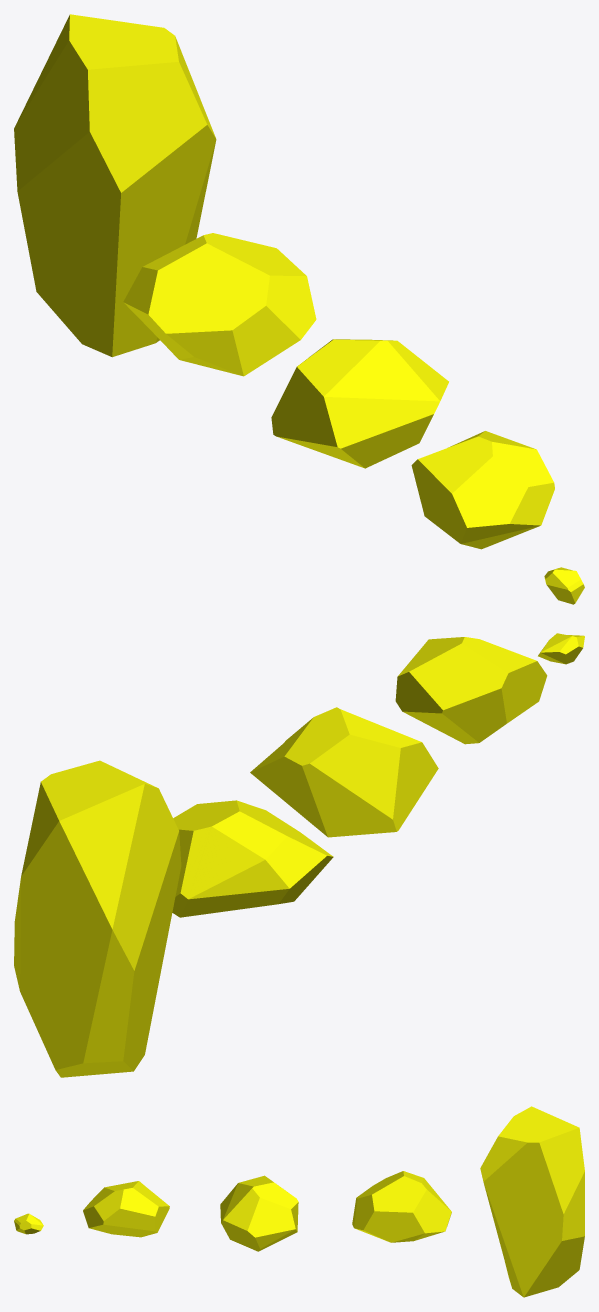
The model's file is rocks_converted.glb.
3 views of the same model, one above another, from view 1: azimuth 30°, elevation 25°; view 2: azimuth 150°, elevation 25°; view 3: azimuth 270°, elevation 25° (orthographic). The views are drawn at different scales.
Visible parts, largest first — view 1: big rock, mediun rock, mediun rock 2, mediun rock 3, small rock; view 2: big rock, mediun rock 2, mediun rock, mediun rock 3, small rock; view 3: big rock, mediun rock, mediun rock 2, mediun rock 3, small rock.
Part boxes in pixels (x1,y1,x2,y2): big rock: (14,14,216,357); mediun rock: (123,233,316,376); mediun rock 2: (271,339,448,468); mediun rock 3: (411,431,554,549); small rock: (544,567,584,604); big rock: (14,760,181,1077); mediun rock 2: (250,707,438,837); mediun rock: (172,800,333,917); mediun rock 3: (395,637,547,744); small rock: (538,633,584,664); big rock: (480,1106,584,1297); mediun rock: (352,1171,451,1242); mediun rock 2: (220,1175,298,1251); mediun rock 3: (83,1181,169,1237); small rock: (14,1213,43,1234).
Bounding box in the file's own units: 2.3 × 3.8 × 11.96.
Materials: 2 (2 with a texture image).
